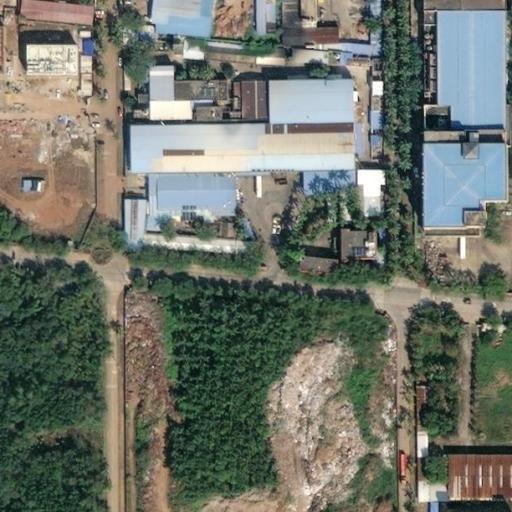building: (409, 148, 496, 233), (134, 167, 222, 216), (256, 74, 342, 118), (118, 142, 253, 169), (434, 452, 512, 498), (118, 119, 252, 144), (131, 235, 240, 255), (252, 126, 341, 149), (402, 383, 418, 500), (13, 39, 63, 71), (253, 148, 341, 166), (136, 62, 162, 121), (335, 225, 376, 260), (192, 39, 244, 64), (289, 165, 340, 189), (111, 198, 133, 248), (229, 79, 257, 117), (162, 76, 205, 98), (294, 251, 337, 272), (252, 117, 341, 127), (357, 54, 370, 111), (38, 19, 83, 35), (242, 45, 273, 67), (291, 24, 328, 42), (311, 44, 370, 55), (169, 37, 194, 61), (351, 182, 369, 210), (279, 48, 317, 61), (357, 127, 371, 160), (77, 189, 90, 224), (344, 167, 372, 183), (75, 53, 89, 83), (135, 216, 159, 232), (111, 23, 139, 36), (269, 27, 291, 42), (220, 82, 230, 110), (418, 484, 434, 500), (207, 223, 224, 238), (182, 101, 201, 114), (357, 111, 370, 127), (71, 39, 85, 53), (122, 102, 137, 115), (162, 97, 179, 107), (160, 36, 172, 50), (177, 221, 193, 231), (192, 222, 208, 231), (125, 93, 137, 102), (217, 109, 230, 115), (418, 500, 424, 512)
